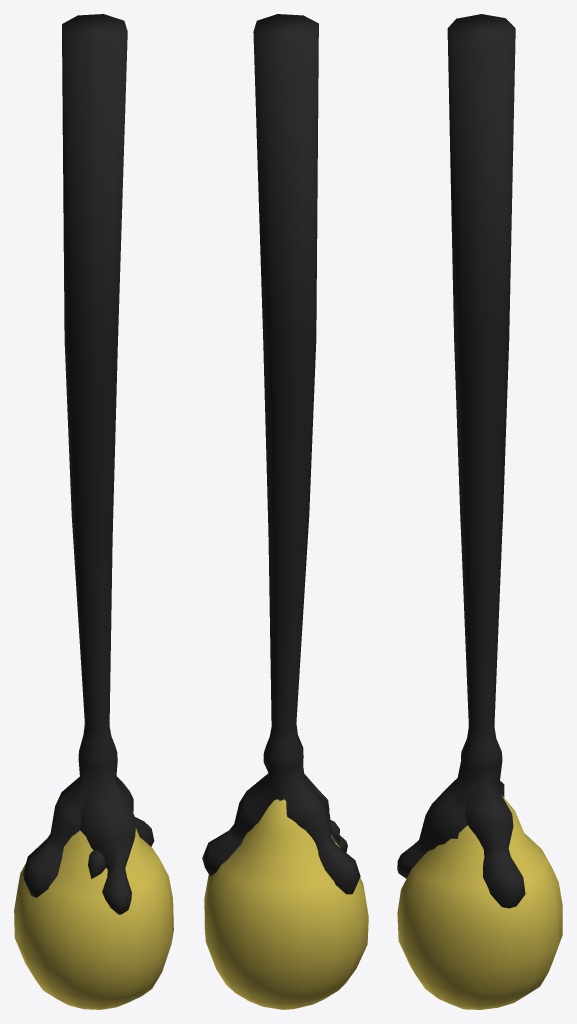
File: IsoMonsu_lure.fbx
3 renders of one model, left to right at view 1: azimuth 30°, elevation 25°; view 2: azimuth 150°, elevation 25°; view 3: azimuth 270°, elevation 25°, orthographic.
Parts seen in each view (by area): view 1: lure; view 2: lure; view 3: lure.
Part boxes in pixels (x1=…): lure: x1=14, y1=14, x2=173, y2=1009; lure: x1=202, y1=14, x2=368, y2=1009; lure: x1=397, y1=14, x2=562, y2=1009.
Size of the model in its own units: 177 by 1164 by 180.
